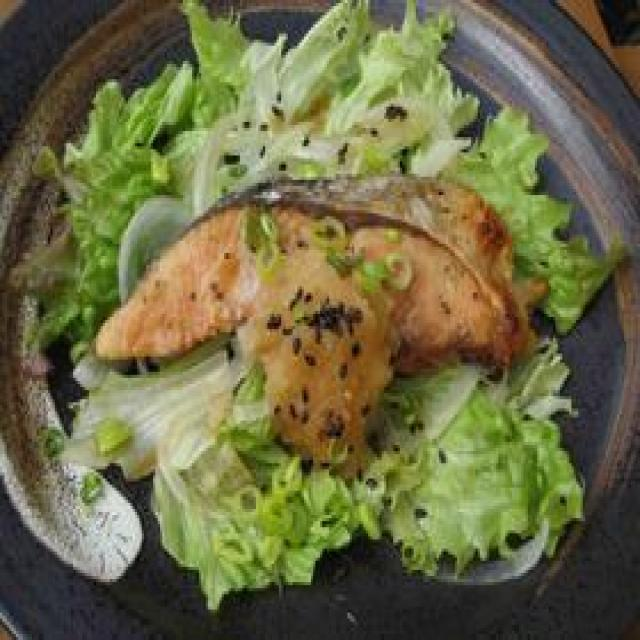熟制海鲜: (105, 150, 540, 476)
